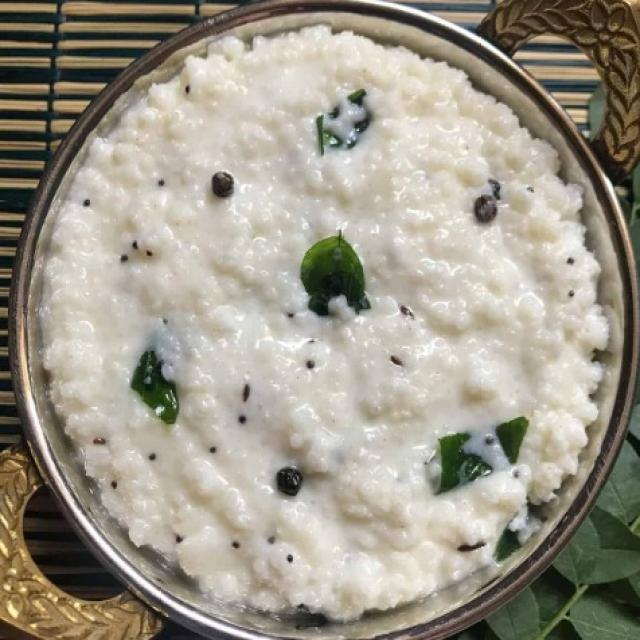CURD RICE: (33, 21, 610, 627)
